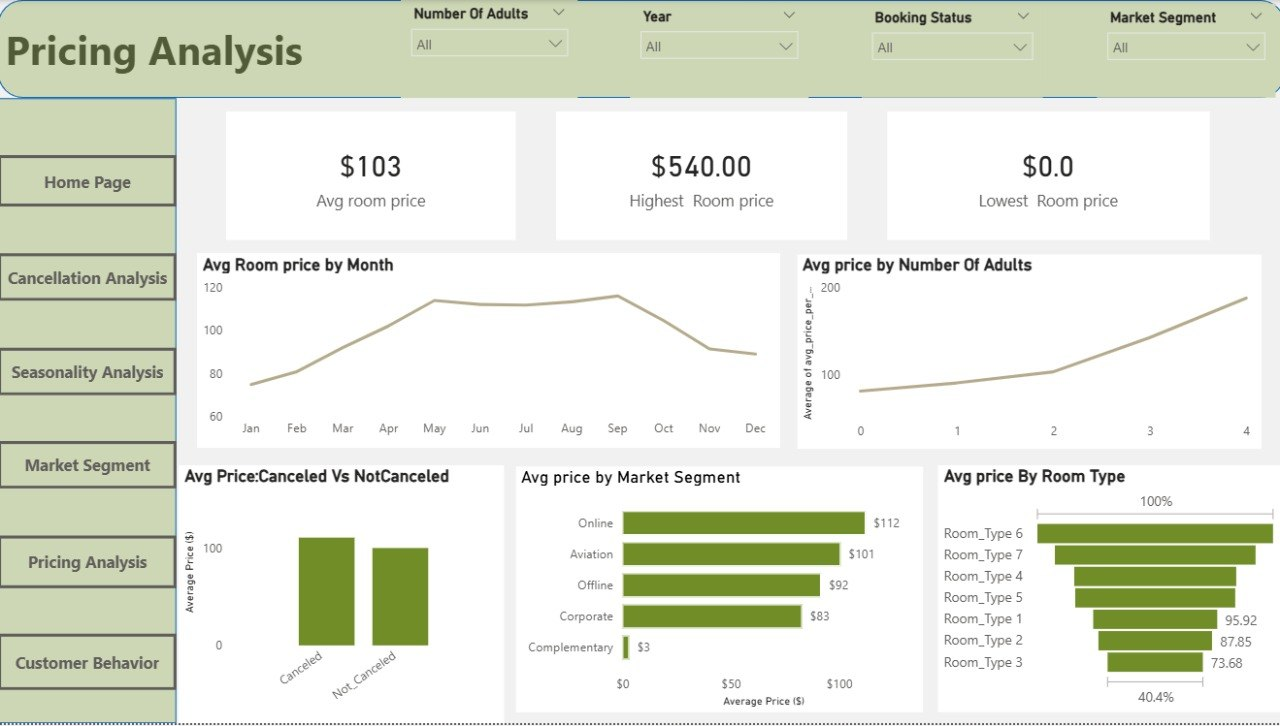

The dashboard page shown, as its layout file describes it:
{"tool":"powerbi","page":{"name":"Pricing  Analysis","canvas":[1280,720],"ordinal":4},"visuals":[{"type":"lineChart","title":"Avg  Room price  by Month","fields":{"Y":["Avg(Fact _Reservations.avg_price_per_room)"],"Category":["Dim_Date.Month_Name"]},"box":[197.5,252.5,580,193.8],"z":0},{"type":"funnel","title":"Avg price By Room Type","fields":{"Category":["Dim_Room.room_type_reserved"],"Y":["Avg(Fact _Reservations.avg_price_per_room)"]},"box":[934.6,463,344.4,245.7],"z":1000},{"type":"clusteredBarChart","title":"Avg price by  Market Segment ","fields":{"Category":["Dim_Segment.market_segment_type"],"Y":["Measures (2).Avg room price"]},"box":[514.8,464.2,404.9,244.4],"z":2000},{"type":"clusteredColumnChart","title":"Avg Price:Canceled Vs NotCanceled ","fields":{"Category":["Dim_status.booking_status"],"Y":["Avg(Fact _Reservations.avg_price_per_room)"]},"box":[180.2,463,323.5,256.8],"z":3000},{"type":"shape","box":[0,0,1280,97.5],"z":4000},{"type":"shape","box":[0,97.7,177.3,622.5],"z":5000},{"type":"card","fields":{"Values":["Dim_Date.Avg room price"]},"box":[226.2,110.6,288.4,128],"z":6000},{"type":"slicer","fields":{"Values":["Fact _Reservations.no_of_adults"]},"box":[400,0,176.2,97.5],"z":7000},{"type":"card","fields":{"Values":["Dim_Date.Max room price"]},"box":[554.4,110.6,289.6,128],"z":8000},{"type":"card","fields":{"Values":["Dim_Date.Min room price"]},"box":[883.7,110.6,320.7,128],"z":9000},{"type":"lineChart","title":"Avg price by Number Of Adults","fields":{"Category":["Fact _Reservations.no_of_adults"],"Y":["Avg(Fact _Reservations.avg_price_per_room)"]},"box":[795.1,253.1,461.7,193.8],"z":10000},{"type":"slicer","fields":{"Values":["Dim_Date.Year"]},"box":[628.8,2.5,177.5,95],"z":11000},{"type":"slicer","fields":{"Values":["Dim_status.booking_status"]},"box":[859.6,3.8,180,93.8],"z":12000},{"type":"slicer","fields":{"Values":["Dim_Segment.market_segment_type"]},"box":[1092.5,3.8,177.5,93.8],"z":13000},{"type":"actionButton","box":[0,155,177.5,51.2],"z":14000},{"type":"actionButton","box":[0,345.8,177.5,47.5],"z":15000},{"type":"actionButton","box":[0,252.2,177.5,47.5],"z":16000},{"type":"actionButton","box":[0,439.2,177.5,47.5],"z":17000},{"type":"actionButton","box":[0,532.8,177.5,52.5],"z":18000},{"type":"actionButton","box":[0,631.2,177.5,56.2],"z":19000}]}

Visuals, with their boxes in screenshot pixels (x1, y1, x2, y2), scaled from the page's 1280x720 canvas onto the 1280x726 screenshot:
"Avg  Room price  by Month" lineChart: (x1=198, y1=255, x2=778, y2=450)
"Avg price By Room Type" funnel: (x1=935, y1=467, x2=1279, y2=715)
"Avg price by  Market Segment " clusteredBarChart: (x1=515, y1=468, x2=920, y2=715)
"Avg Price:Canceled Vs NotCanceled " clusteredColumnChart: (x1=180, y1=467, x2=504, y2=725)
shape: (x1=0, y1=0, x2=1279, y2=98)
shape: (x1=0, y1=99, x2=177, y2=725)
card - Dim_Date.Avg room price: (x1=226, y1=112, x2=515, y2=241)
slicer - Fact _Reservations.no_of_adults: (x1=400, y1=0, x2=576, y2=98)
card - Dim_Date.Max room price: (x1=554, y1=112, x2=844, y2=241)
card - Dim_Date.Min room price: (x1=884, y1=112, x2=1204, y2=241)
"Avg price by Number Of Adults" lineChart: (x1=795, y1=255, x2=1257, y2=451)
slicer - Dim_Date.Year: (x1=629, y1=3, x2=806, y2=98)
slicer - Dim_status.booking_status: (x1=860, y1=4, x2=1040, y2=98)
slicer - Dim_Segment.market_segment_type: (x1=1092, y1=4, x2=1270, y2=98)
actionButton: (x1=0, y1=156, x2=178, y2=208)
actionButton: (x1=0, y1=349, x2=178, y2=397)
actionButton: (x1=0, y1=254, x2=178, y2=302)
actionButton: (x1=0, y1=443, x2=178, y2=491)
actionButton: (x1=0, y1=537, x2=178, y2=590)
actionButton: (x1=0, y1=636, x2=178, y2=693)
